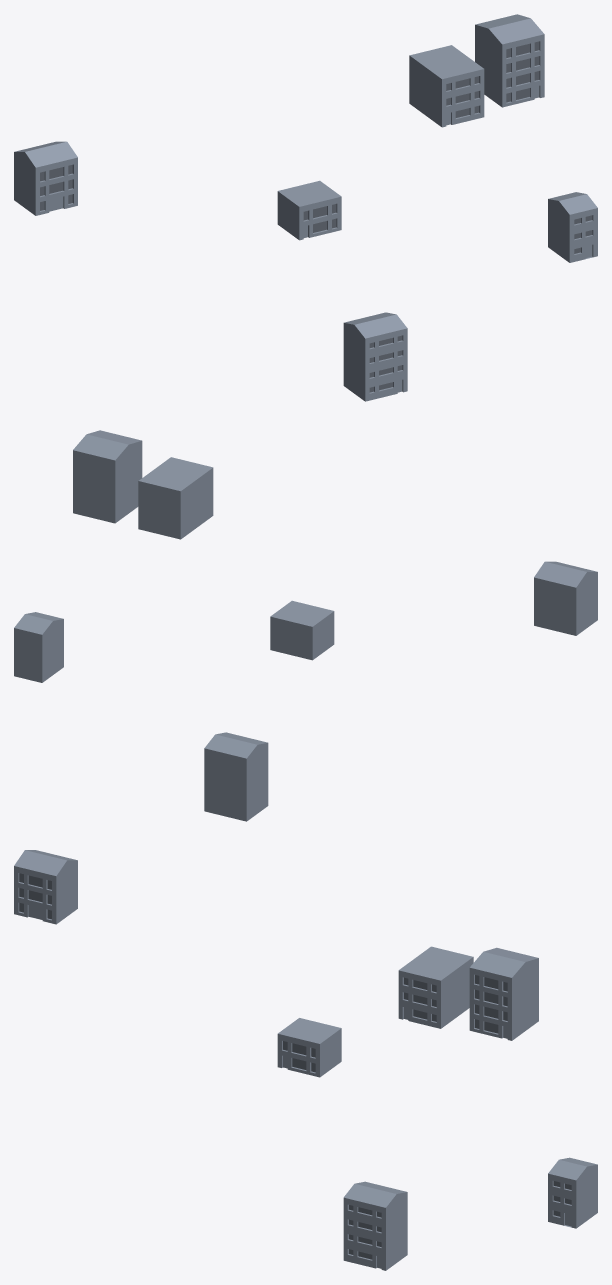
File: BinaGrup10.gltf
3 views of the same model, one above another, from view 1: azimuth 30°, elevation 25°; view 2: azimuth 150°, elevation 25°; view 3: azimuth 330°, elevation 25° (orthographic).
Visible parts, largest first — view 1: Building_061.016, Building_072.014, Building_065.016, Building_023.016, Building_081.014, Building_052.016, Building_072.015, Building_023.017, Building_065.017, Building_061.017; view 2: Building_072.014, Building_061.016, Building_065.016, Building_023.016, Building_052.016, Building_081.014; view 3: Building_072.014, Building_061.016, Building_065.016, Building_023.016, Building_081.014, Building_052.016, Building_072.015, Building_023.017.
Boxes of the visible parts, x1=… form: Building_061.016: x1=343, y1=312, x2=407, y2=401; Building_072.014: x1=475, y1=14, x2=544, y2=107; Building_065.016: x1=409, y1=45, x2=484, y2=127; Building_023.016: x1=14, y1=141, x2=77, y2=215; Building_081.014: x1=548, y1=192, x2=597, y2=262; Building_052.016: x1=277, y1=180, x2=341, y2=240; Building_072.015: x1=506, y1=41, x2=539, y2=102; Building_023.017: x1=40, y1=165, x2=72, y2=210; Building_065.017: x1=446, y1=76, x2=478, y2=117; Building_061.017: x1=369, y1=335, x2=402, y2=392; Building_072.014: x1=73, y1=430, x2=142, y2=523; Building_061.016: x1=204, y1=732, x2=268, y2=821; Building_065.016: x1=138, y1=457, x2=213, y2=539; Building_023.016: x1=534, y1=561, x2=597, y2=635; Building_052.016: x1=270, y1=600, x2=334, y2=660; Building_081.014: x1=14, y1=612, x2=63, y2=682; Building_072.014: x1=469, y1=947, x2=538, y2=1040; Building_061.016: x1=343, y1=1181, x2=407, y2=1270; Building_065.016: x1=398, y1=946, x2=473, y2=1028; Building_023.016: x1=14, y1=850, x2=77, y2=924; Building_081.014: x1=548, y1=1157, x2=597, y2=1228; Building_052.016: x1=277, y1=1018, x2=341, y2=1077; Building_072.015: x1=475, y1=975, x2=507, y2=1033; Building_023.017: x1=19, y1=873, x2=51, y2=919.
Size of the model in its own units: 0.6491 by 0.3696 by 0.0652.
